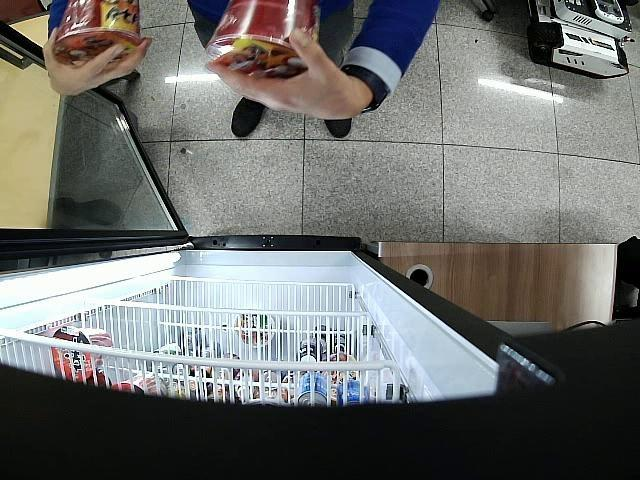05_nuguri_L: (206, 0, 316, 79), (54, 0, 145, 62)
